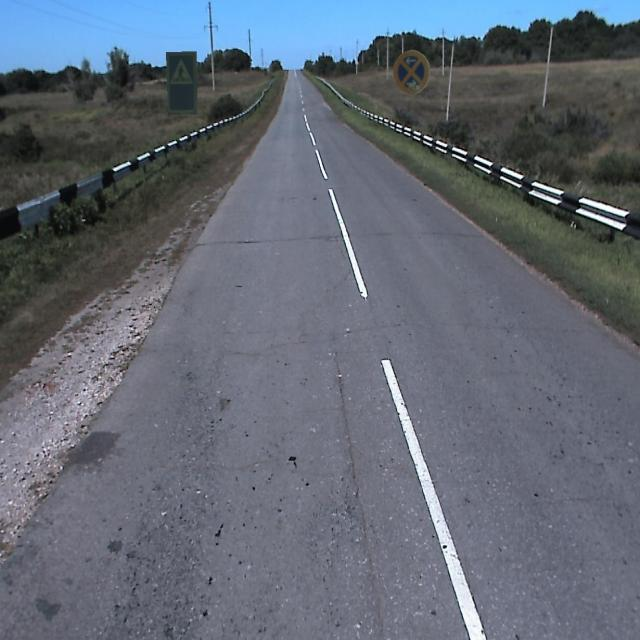road: (0, 70, 639, 639)
